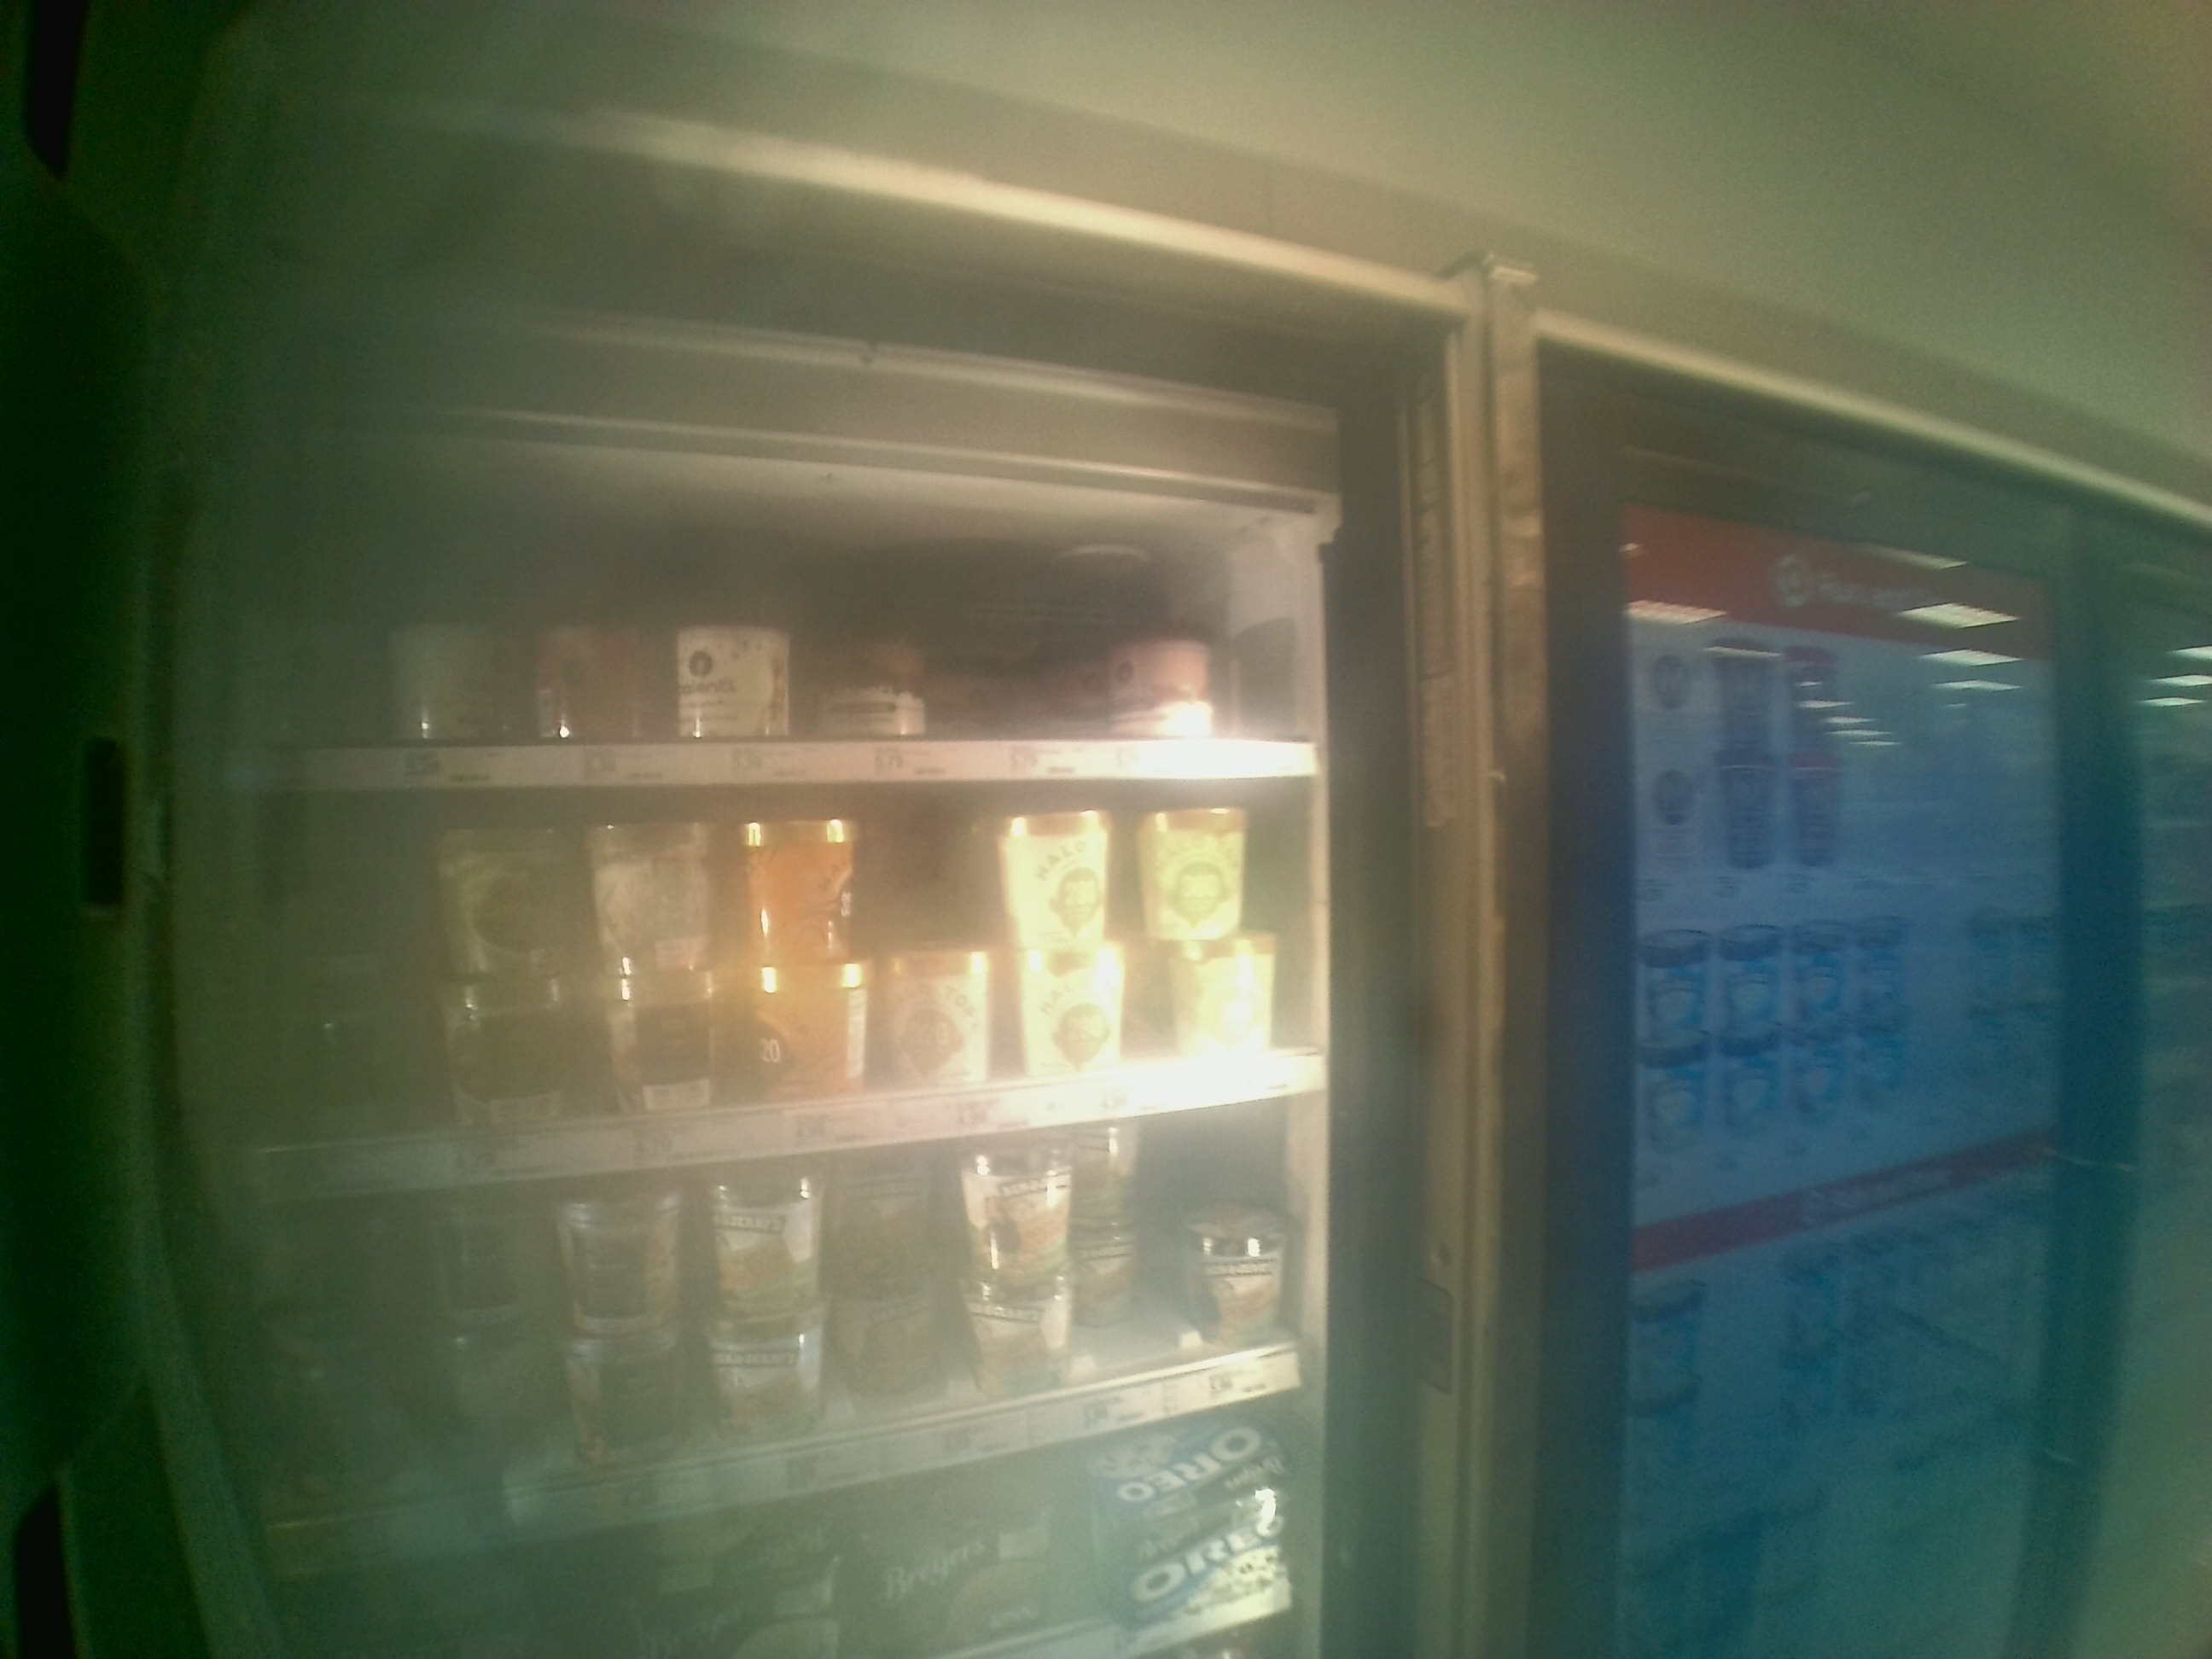shelf: (239, 1089, 1320, 1582), (239, 784, 1348, 1195), (244, 443, 1320, 784)
